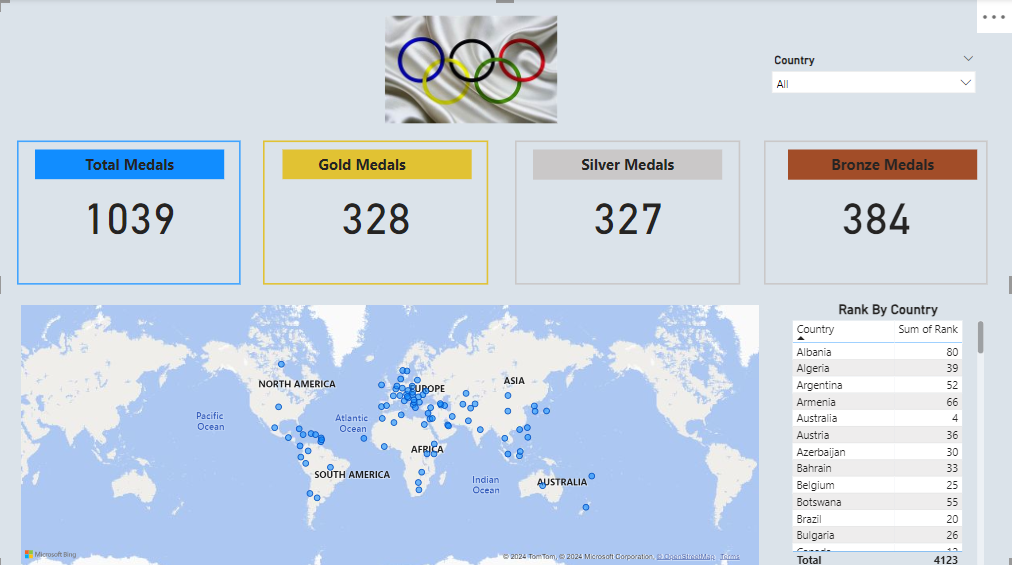

Layout of this report page (visuals, bound fields, positions):
{"tool":"powerbi","page":{"name":"Page 1","canvas":[1280,720],"ordinal":0},"visuals":[{"type":"shape","box":[0,0,1279.4,720.7],"z":0},{"type":"map","fields":{"Category":["olympics2024.Country"]},"box":[26.5,381.7,939.2,338.3],"z":1000},{"type":"slicer","fields":{"Values":["olympics2024.Country"]},"box":[965.7,64.3,275.9,81.3],"z":2000},{"type":"tableEx","title":"Rank By Country","fields":{"Values":["olympics2024.Country","Sum(olympics2024.Rank)"]},"box":[996.1,380.9,252,339.9],"z":3000},{"type":"card","title":"Total Medals","fields":{"Values":["Sum(olympics2024.Total)"]},"box":[26.5,179.5,281.6,181.4],"z":4000},{"type":"textbox","box":[50,190,238,37],"z":5000},{"type":"card","title":"Total Medals","fields":{"Values":["Sum(olympics2024.Gold)"]},"box":[336.4,179.5,283.5,181.4],"z":6000},{"type":"textbox","title":"Gold Medals","box":[360,190,238,37],"z":7000},{"type":"card","title":"Total Medals","fields":{"Values":["Sum(olympics2024.Silver)"]},"box":[652,179.5,283.5,181.4],"z":8000},{"type":"textbox","box":[674.7,190.9,238.1,37.8],"z":9000},{"type":"card","title":"Total Medals","fields":{"Values":["Sum(olympics2024.Bronze)"]},"box":[965.7,179.5,281.6,181.4],"z":10000},{"type":"image","box":[233.3,16.7,727.1,145.8],"z":11000},{"type":"textbox","box":[995.8,190,238,38],"z":11001}]}

Visuals, with their boxes on the page's 1280x720 design canvas (x1, y1, x2, y2). These are canvas units, not pixel positions in the 1012x565 screenshot, which may show the page scaled, cropped or inside an application window:
shape: l=0, t=0, r=1279, b=721
map - olympics2024.Country: l=26, t=382, r=966, b=720
slicer - olympics2024.Country: l=966, t=64, r=1242, b=146
"Rank By Country" tableEx: l=996, t=381, r=1248, b=721
"Total Medals" card: l=26, t=180, r=308, b=361
textbox: l=50, t=190, r=288, b=227
"Total Medals" card: l=336, t=180, r=620, b=361
"Gold Medals" textbox: l=360, t=190, r=598, b=227
"Total Medals" card: l=652, t=180, r=936, b=361
textbox: l=675, t=191, r=913, b=229
"Total Medals" card: l=966, t=180, r=1247, b=361
image: l=233, t=17, r=960, b=162
textbox: l=996, t=190, r=1234, b=228
